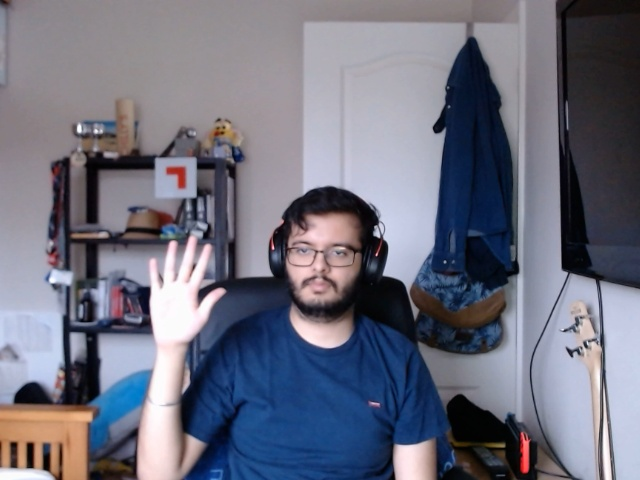Hello: (137, 229, 237, 364)
